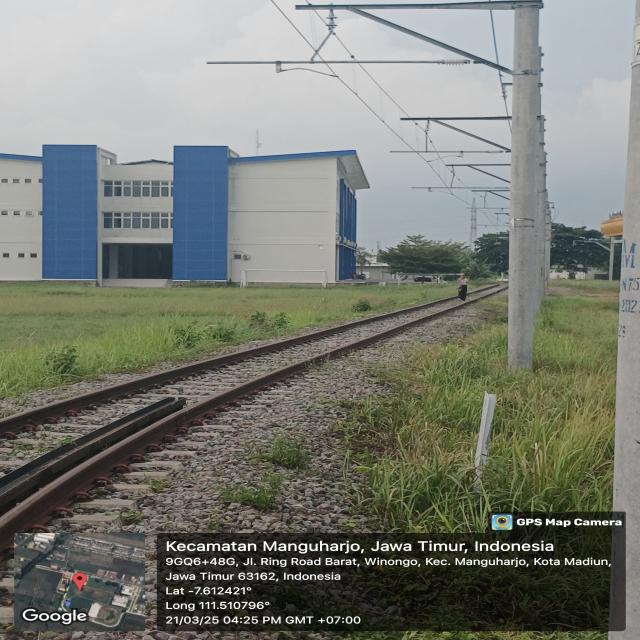rail-detection: (0, 286, 508, 547), (0, 298, 451, 435), (66, 492, 71, 497)
